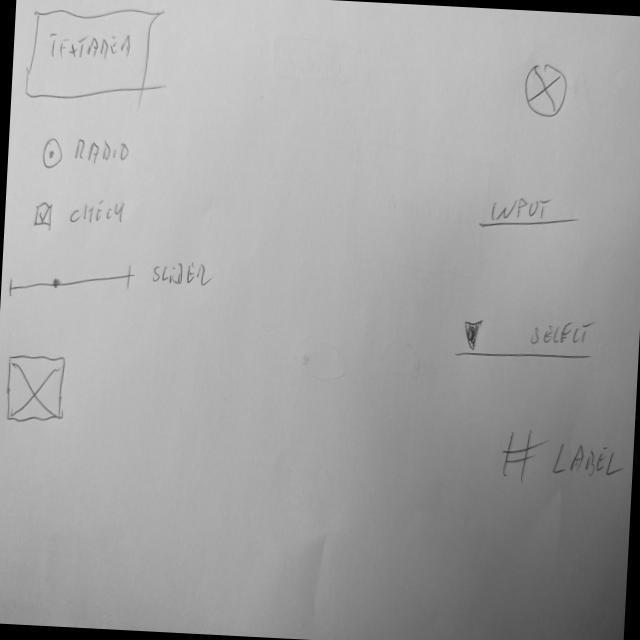checkbox: (34, 192, 128, 234)
image: (5, 351, 70, 429), (522, 58, 571, 121)
input: (479, 189, 585, 238)
label: (500, 426, 629, 492)
radio: (40, 136, 64, 176)
slider: (6, 256, 138, 307)
